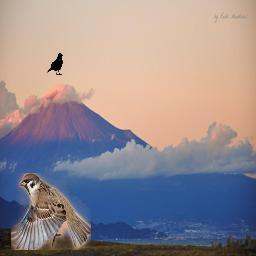Crow: (47, 53, 64, 76)
Sparrow: (11, 174, 91, 251)
